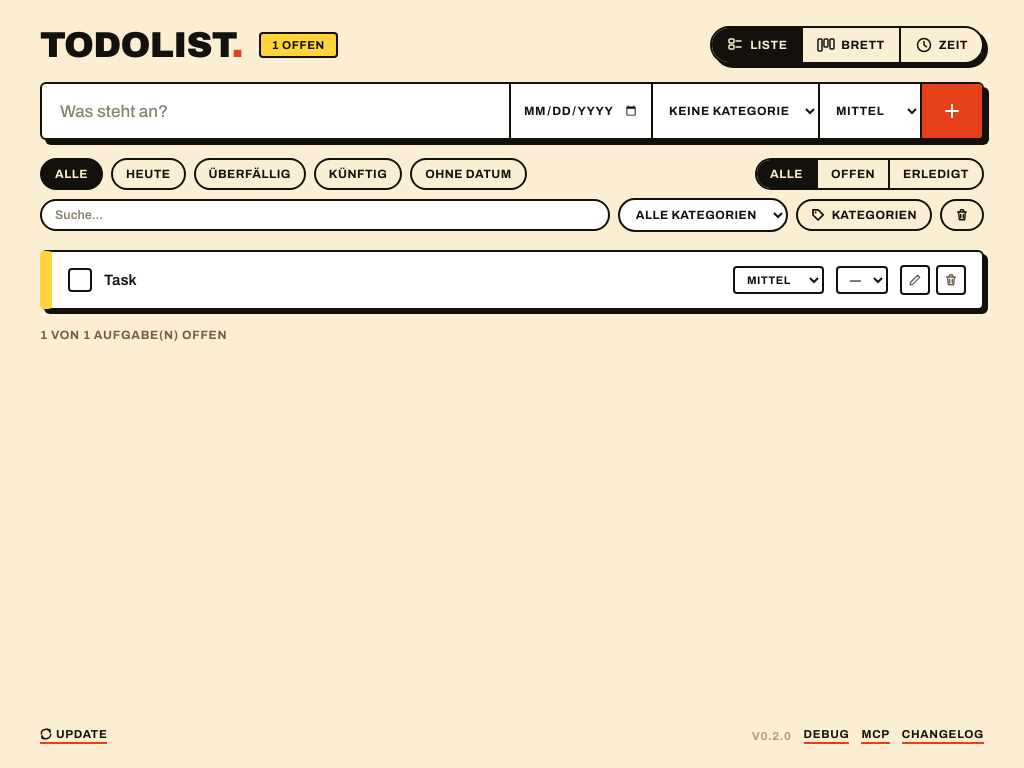
Test: App › writes the changed fields through updateTodoFields
The width and height of the screenshot is (1024, 768).
Check: the text "Task" is shown, box [104, 272, 137, 288]
Click the button named "Aufgabe bearbeiten": (915, 280) [900, 265, 930, 295]
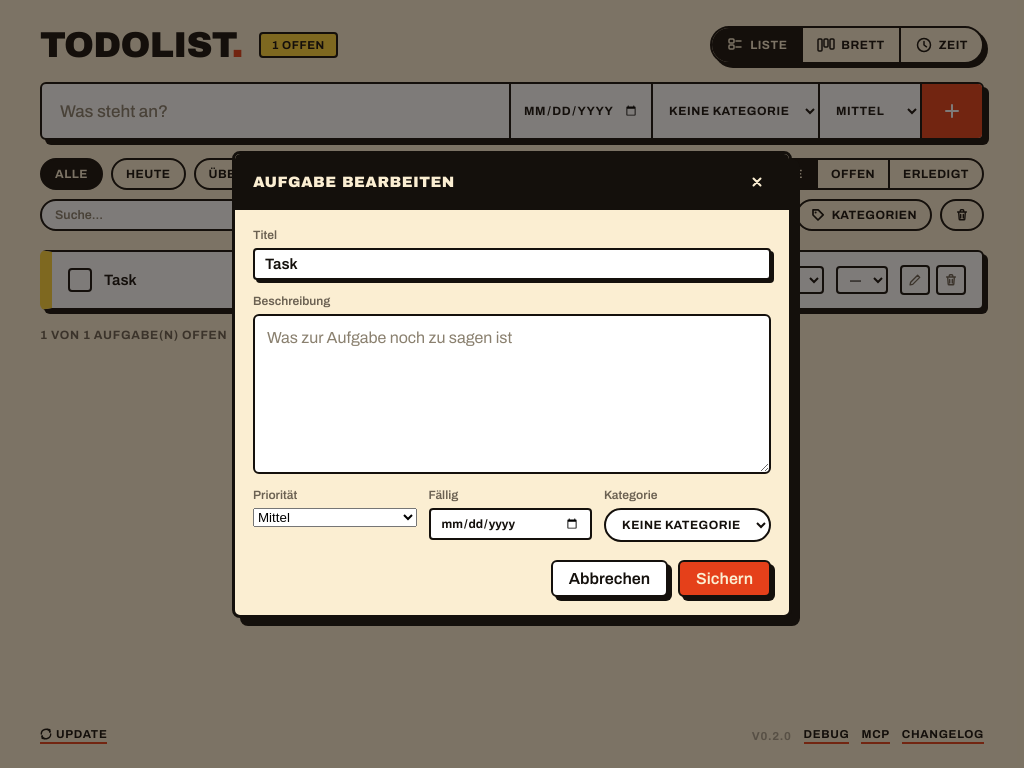
In the text box labelled "Beschreibung": (512, 394) [253, 314, 771, 474], type "Neuer Text"
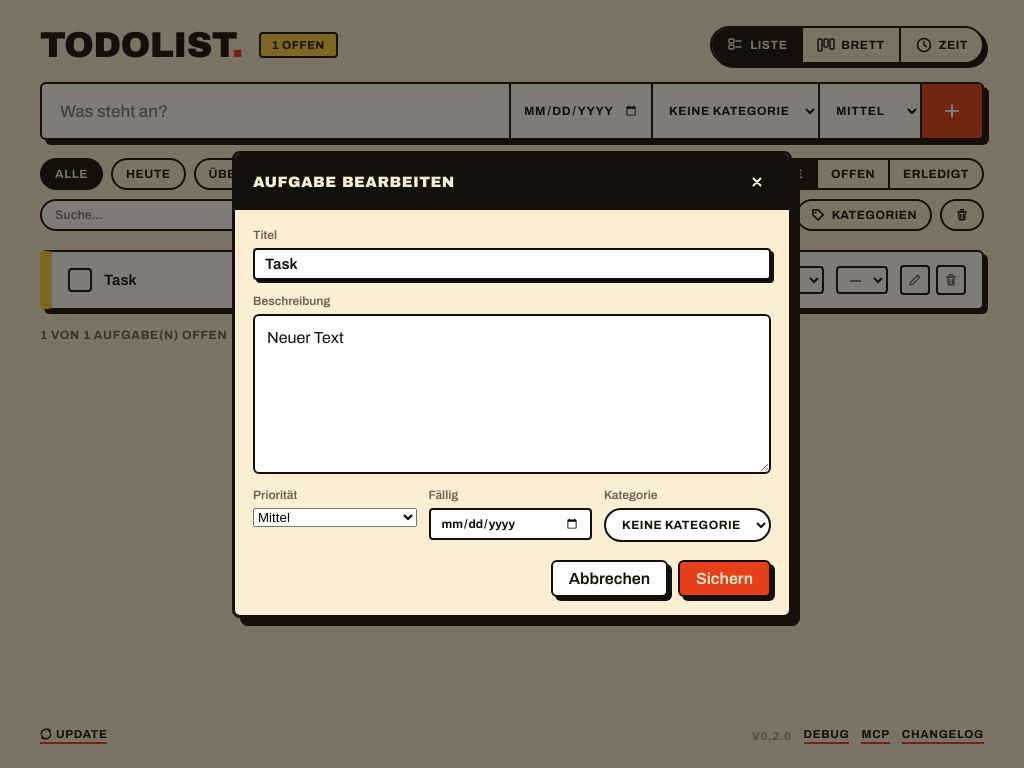
Click the button "Sichern": (725, 578) [678, 560, 771, 596]
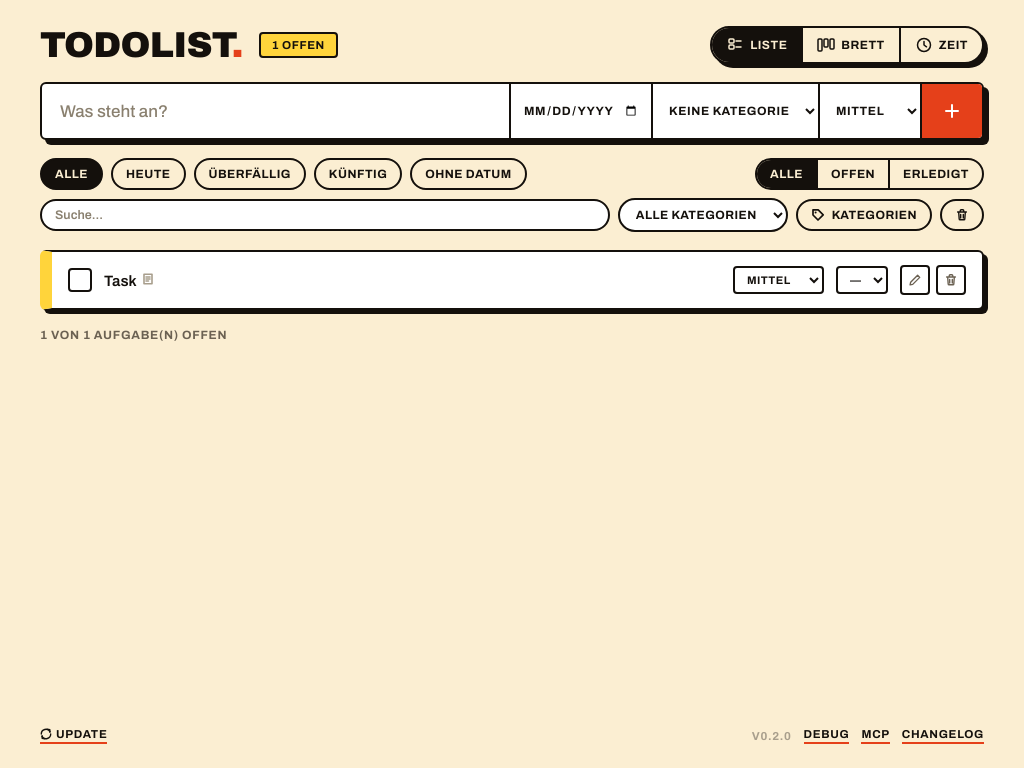
Check: the label labelled "Beschreibung" is gone
